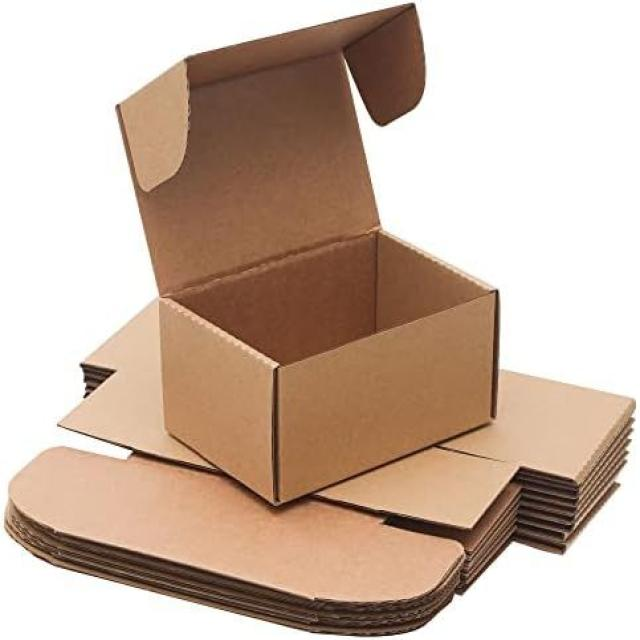cardboard_box: (17, 6, 631, 612), (75, 12, 600, 549)
